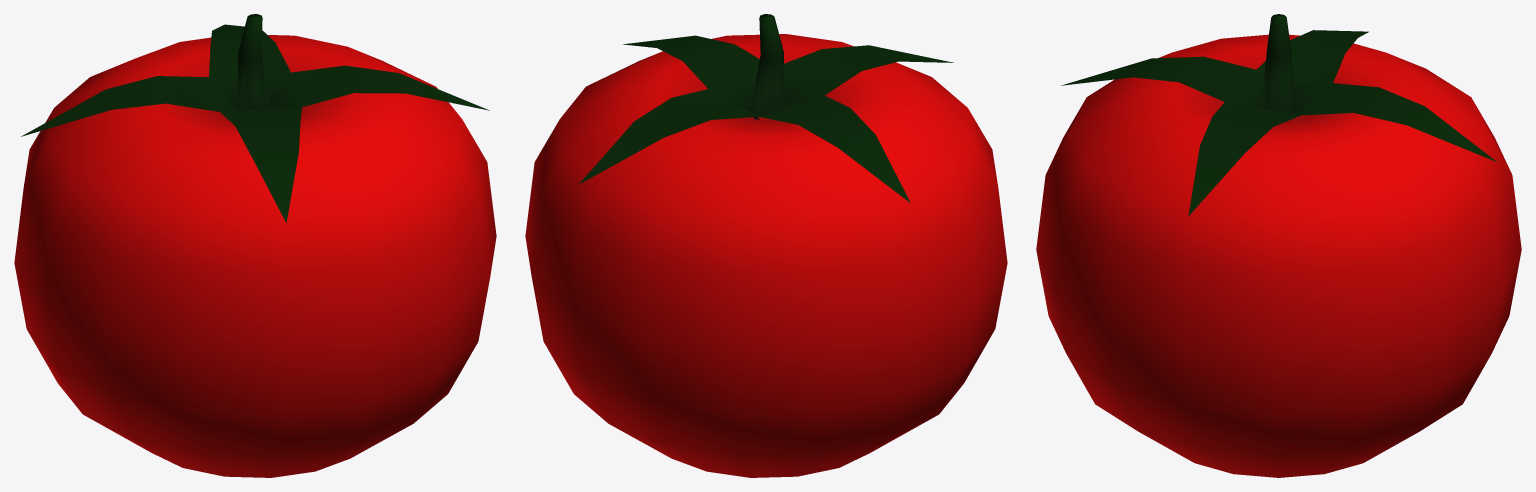
File: Tomato.fbx
3 renders of one model, left to right at view 1: azimuth 30°, elevation 25°; view 2: azimuth 150°, elevation 25°; view 3: azimuth 270°, elevation 25°, orthographic.
Parts seen in each view (by area): view 1: Body, Leaf; view 2: Body, Leaf; view 3: Body, Leaf.
Boxes of the visible parts, x1=… form: Body: x1=14, y1=35, x2=496, y2=477; Leaf: x1=21, y1=14, x2=489, y2=223; Body: x1=525, y1=34, x2=1007, y2=477; Leaf: x1=578, y1=14, x2=953, y2=202; Body: x1=1036, y1=34, x2=1521, y2=477; Leaf: x1=1061, y1=14, x2=1497, y2=216.
Bounding box in the file's own units: 0.7435 × 0.7238 × 0.7435.
